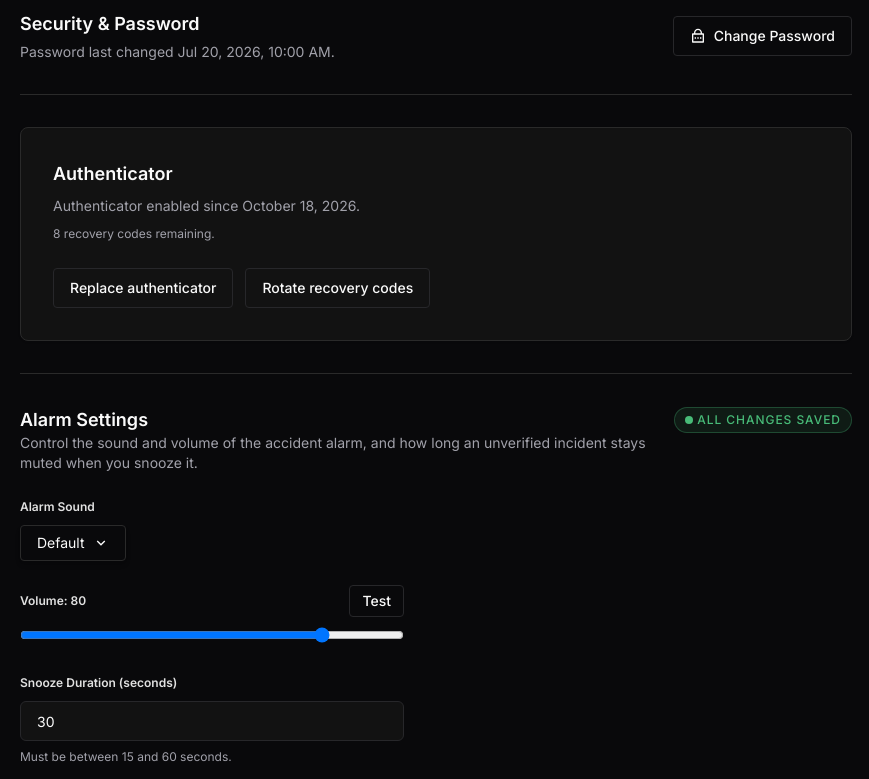
Test: ProfileSettings Page › allows clearing and typing a new snooze duration without leading zero bug, autosaved after it settles
(page scrolled)
Expected: the text "All changes saved" is shown, [674,407,852,433]
Clear the number field labelled "Snooze Duration (seconds)" at point(212, 721), box [20,701,404,741]
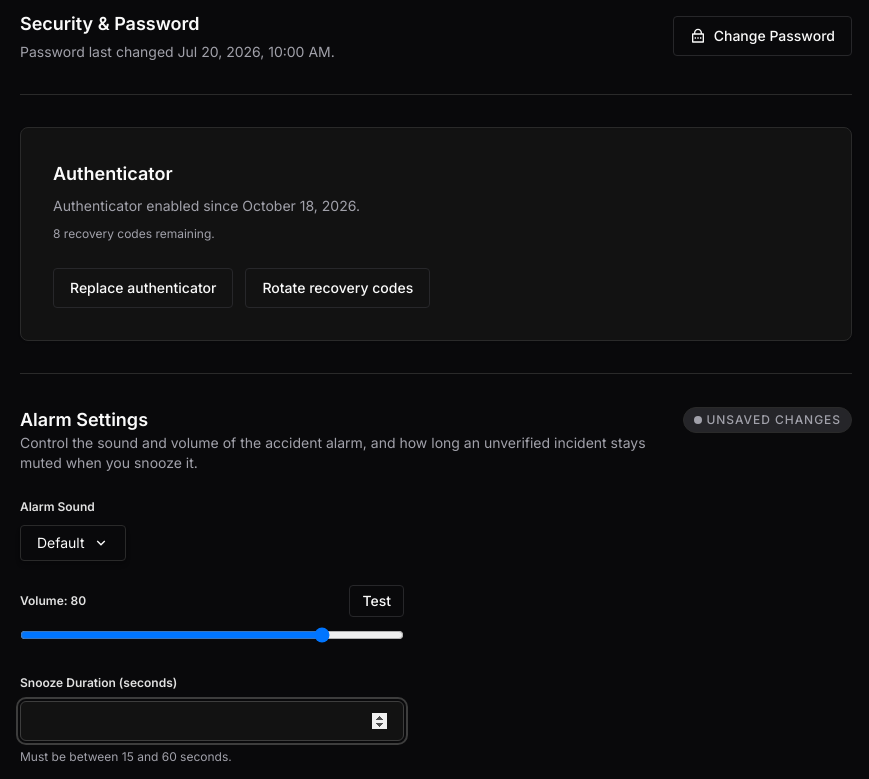
Type "15" into the number field labelled "Snooze Duration (seconds)" at point(212, 721), box [20,701,404,741]
Wait 1000 ms
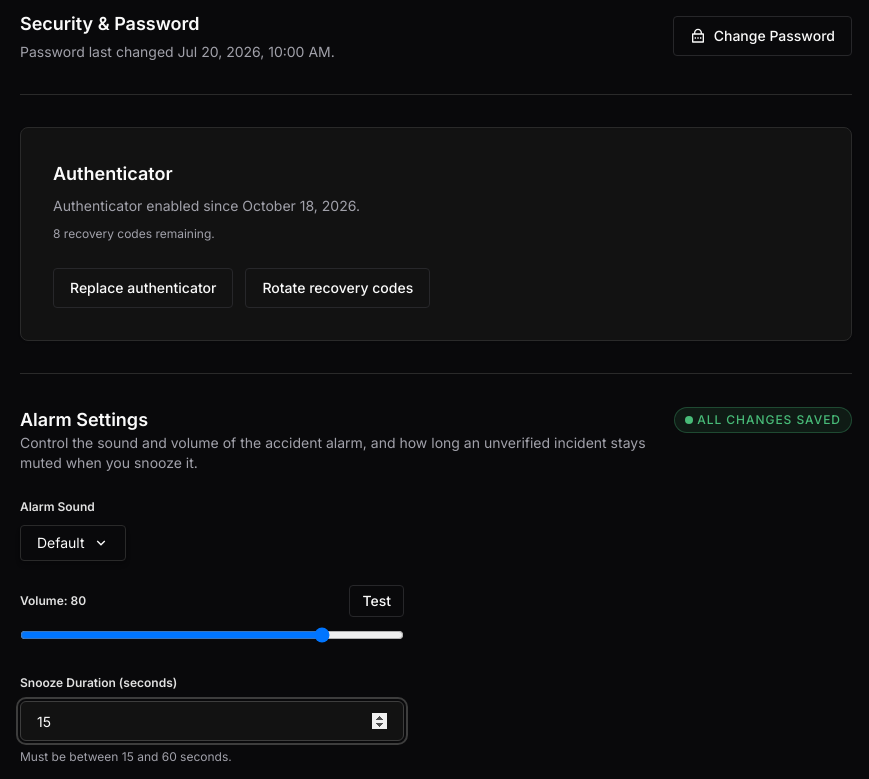
Expected: the text "All changes saved" is shown, [674,407,852,433]
